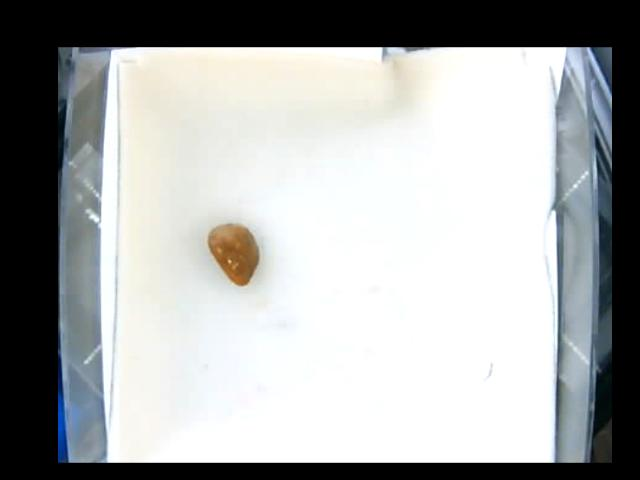Pebble: (199, 222, 257, 287)
